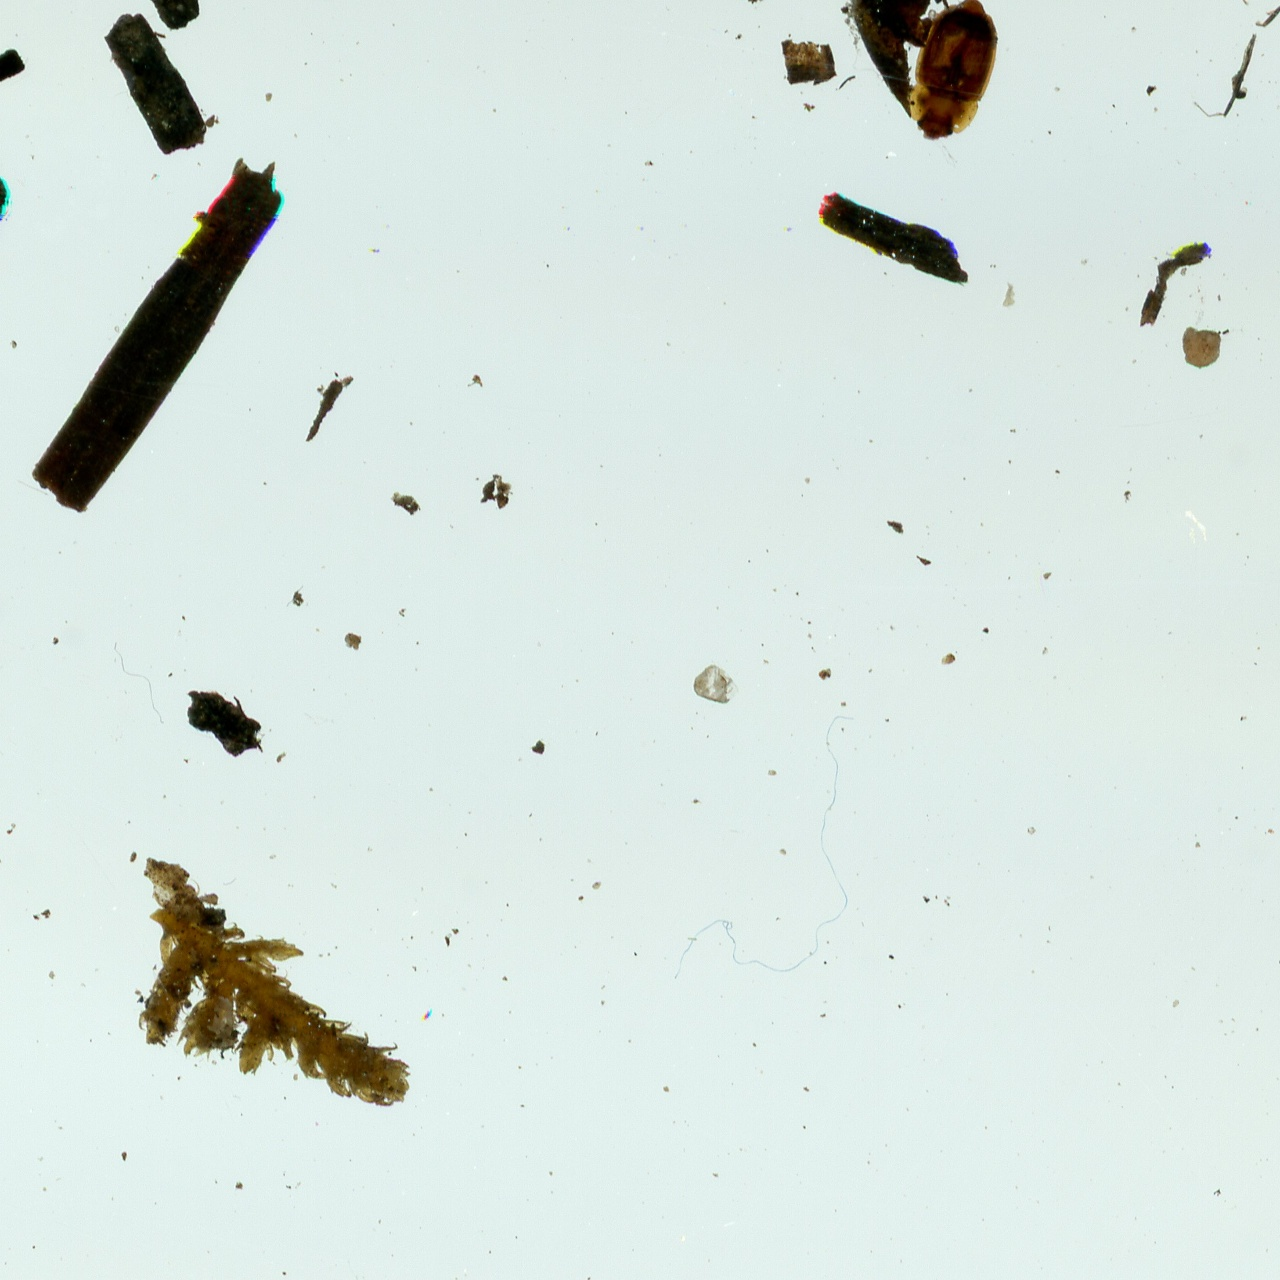arthropod: (902, 0, 1006, 146)
